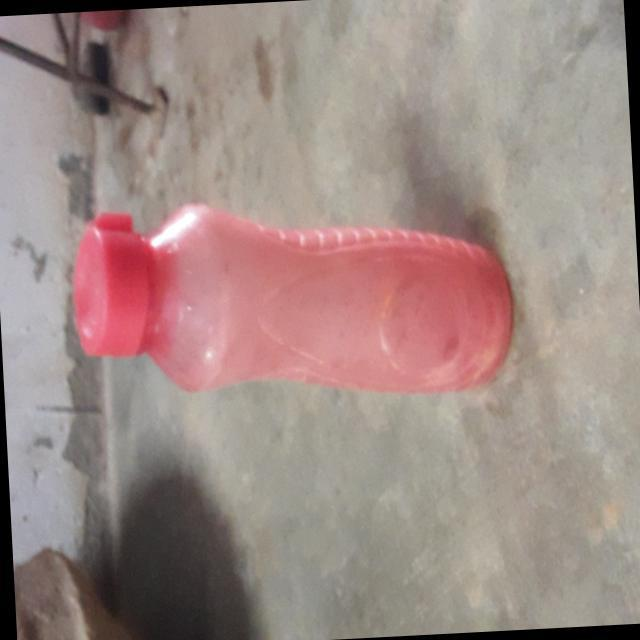good: (62, 186, 520, 422)
